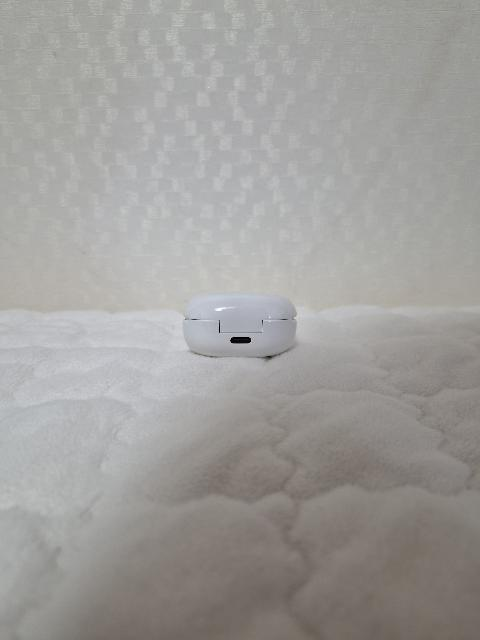earphone_case: (183, 294, 297, 357)
